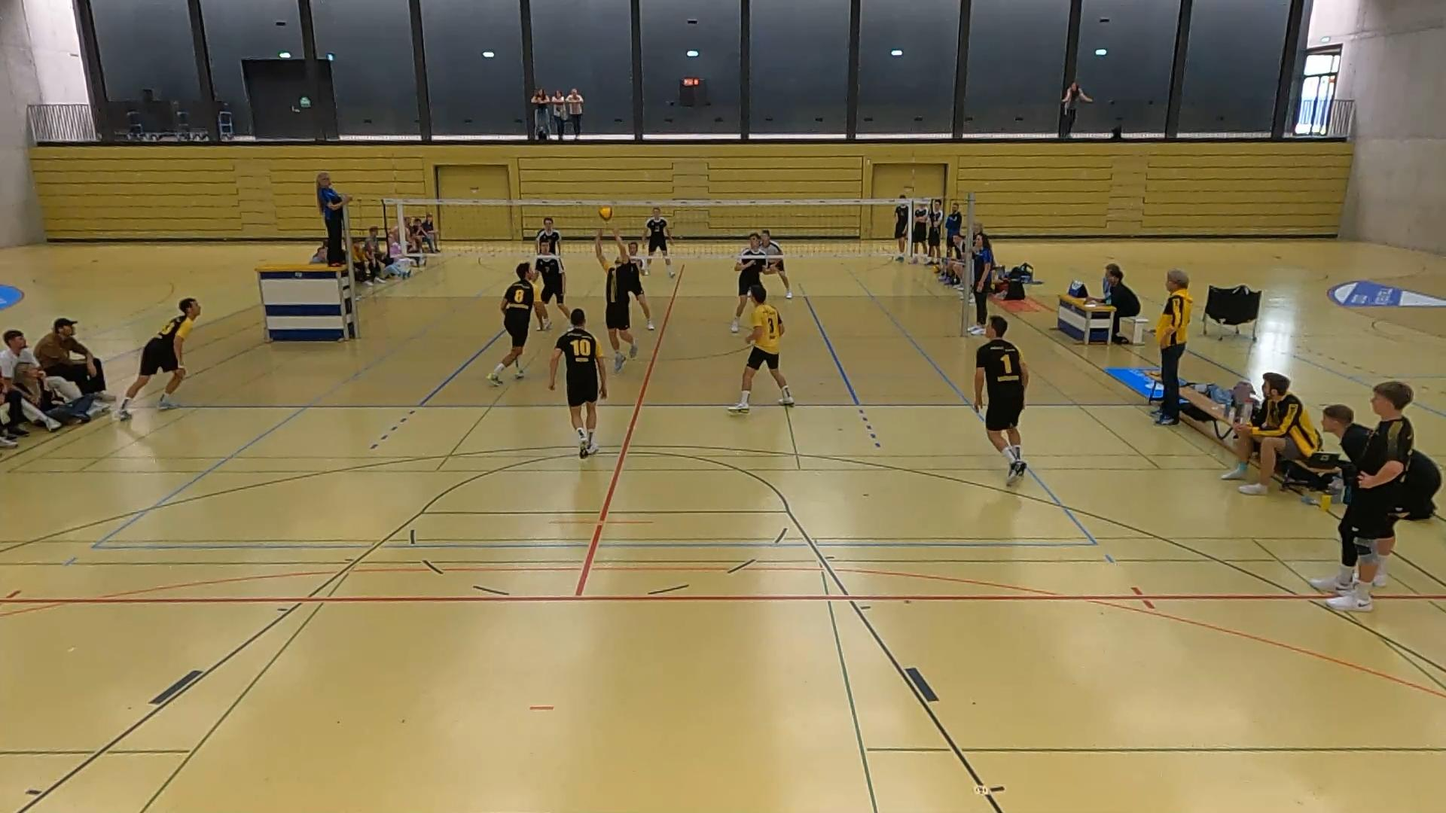alzata: (587, 221, 645, 379)
